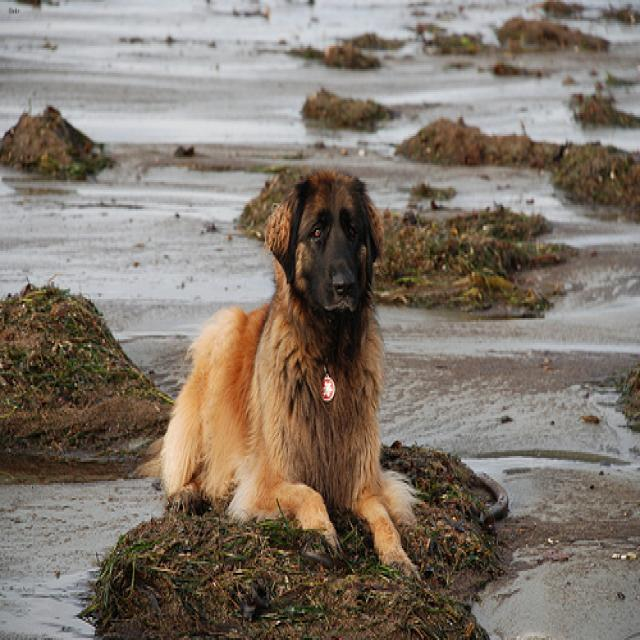dog-leonberger: (122, 157, 424, 584)
